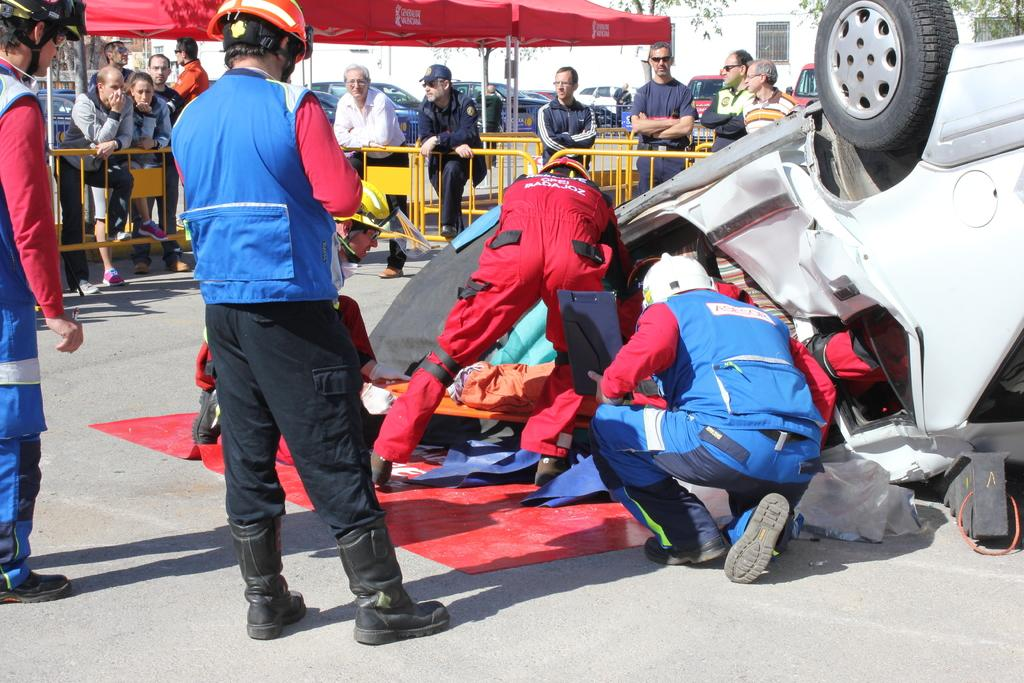helmet: (207, 0, 307, 82), (0, 0, 81, 77), (641, 252, 719, 315)
nohelmet: (722, 49, 755, 89), (419, 64, 452, 104), (744, 59, 779, 96), (96, 66, 125, 108), (343, 64, 371, 100), (649, 41, 674, 78), (553, 66, 579, 101), (130, 72, 154, 108), (147, 53, 172, 87), (174, 37, 198, 66), (103, 40, 129, 66)
